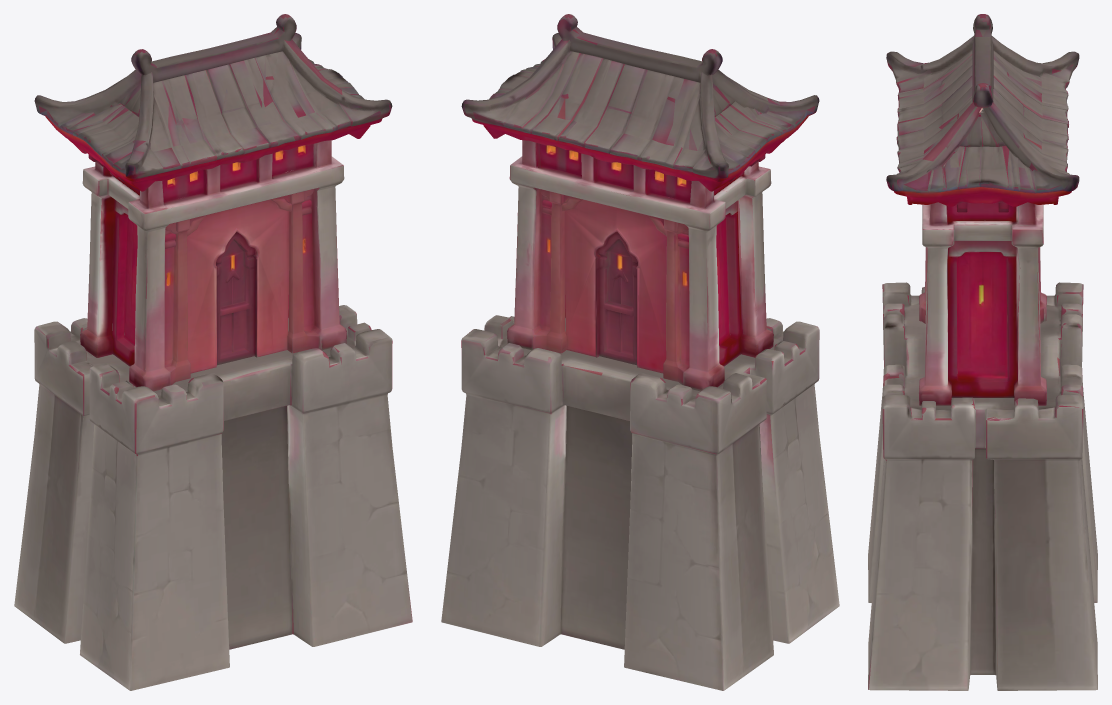
The model's file is SM_Tripo_ZhurongDrumTower.glb.
3 renders of one model, left to right at view 1: azimuth 30°, elevation 25°; view 2: azimuth 150°, elevation 25°; view 3: azimuth 270°, elevation 25°, orthographic.
Visible parts, largest first — view 1: SM_Tripo_ZhurongDrumTower_LOD0; view 2: SM_Tripo_ZhurongDrumTower_LOD0; view 3: SM_Tripo_ZhurongDrumTower_LOD0.
Boxes of the visible parts, x1,y1,x2,y2 form: SM_Tripo_ZhurongDrumTower_LOD0: (14,14,412,690); SM_Tripo_ZhurongDrumTower_LOD0: (441,14,839,690); SM_Tripo_ZhurongDrumTower_LOD0: (868,14,1097,690).
Bounding box in the file's own units: 7.84 × 15.42 × 5.6.
1 material, 1 textured.
